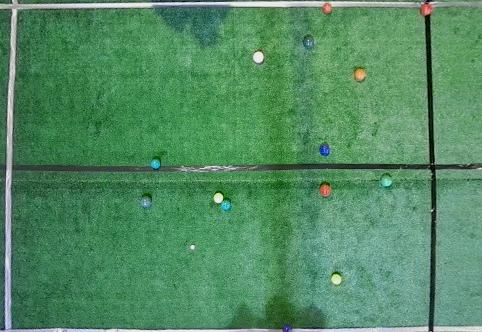blue: (319, 145, 330, 156), (283, 325, 292, 331)
green: (380, 174, 392, 187), (303, 36, 314, 49), (141, 196, 152, 208), (220, 200, 231, 211), (150, 159, 161, 169)
red: (354, 68, 366, 82), (319, 184, 331, 197), (420, 4, 432, 16), (252, 51, 264, 63), (322, 3, 332, 14)
vline: (424, 0, 481, 331), (0, 0, 21, 331)
white: (190, 245, 195, 250)
yellow: (331, 274, 342, 285), (213, 193, 223, 203)
